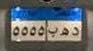5: (20, 26, 29, 38), (12, 25, 20, 37), (38, 25, 45, 37), (30, 26, 36, 38)
baa: (48, 25, 58, 38)
daal: (71, 25, 80, 38)
haa: (60, 26, 70, 38)
